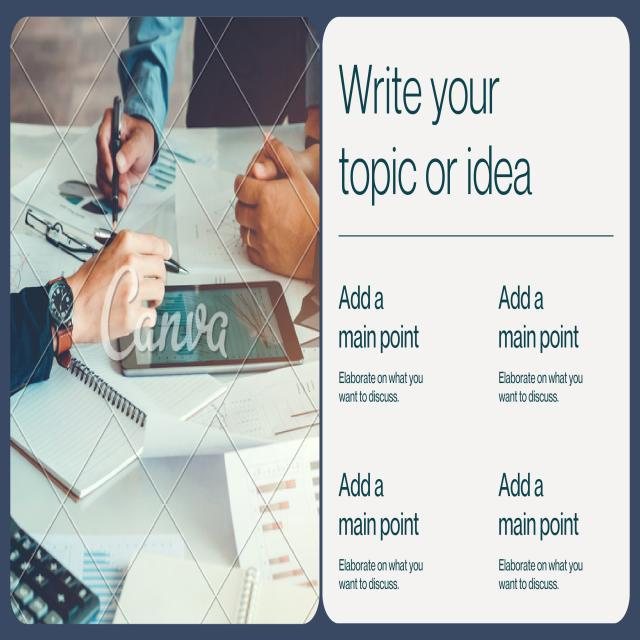image: (5, 12, 321, 624)
text: (491, 462, 585, 550), (329, 276, 424, 358), (490, 279, 585, 361), (334, 468, 431, 547), (492, 365, 588, 415), (493, 554, 587, 604), (335, 365, 430, 411), (334, 559, 433, 593)
title: (336, 55, 540, 212)
